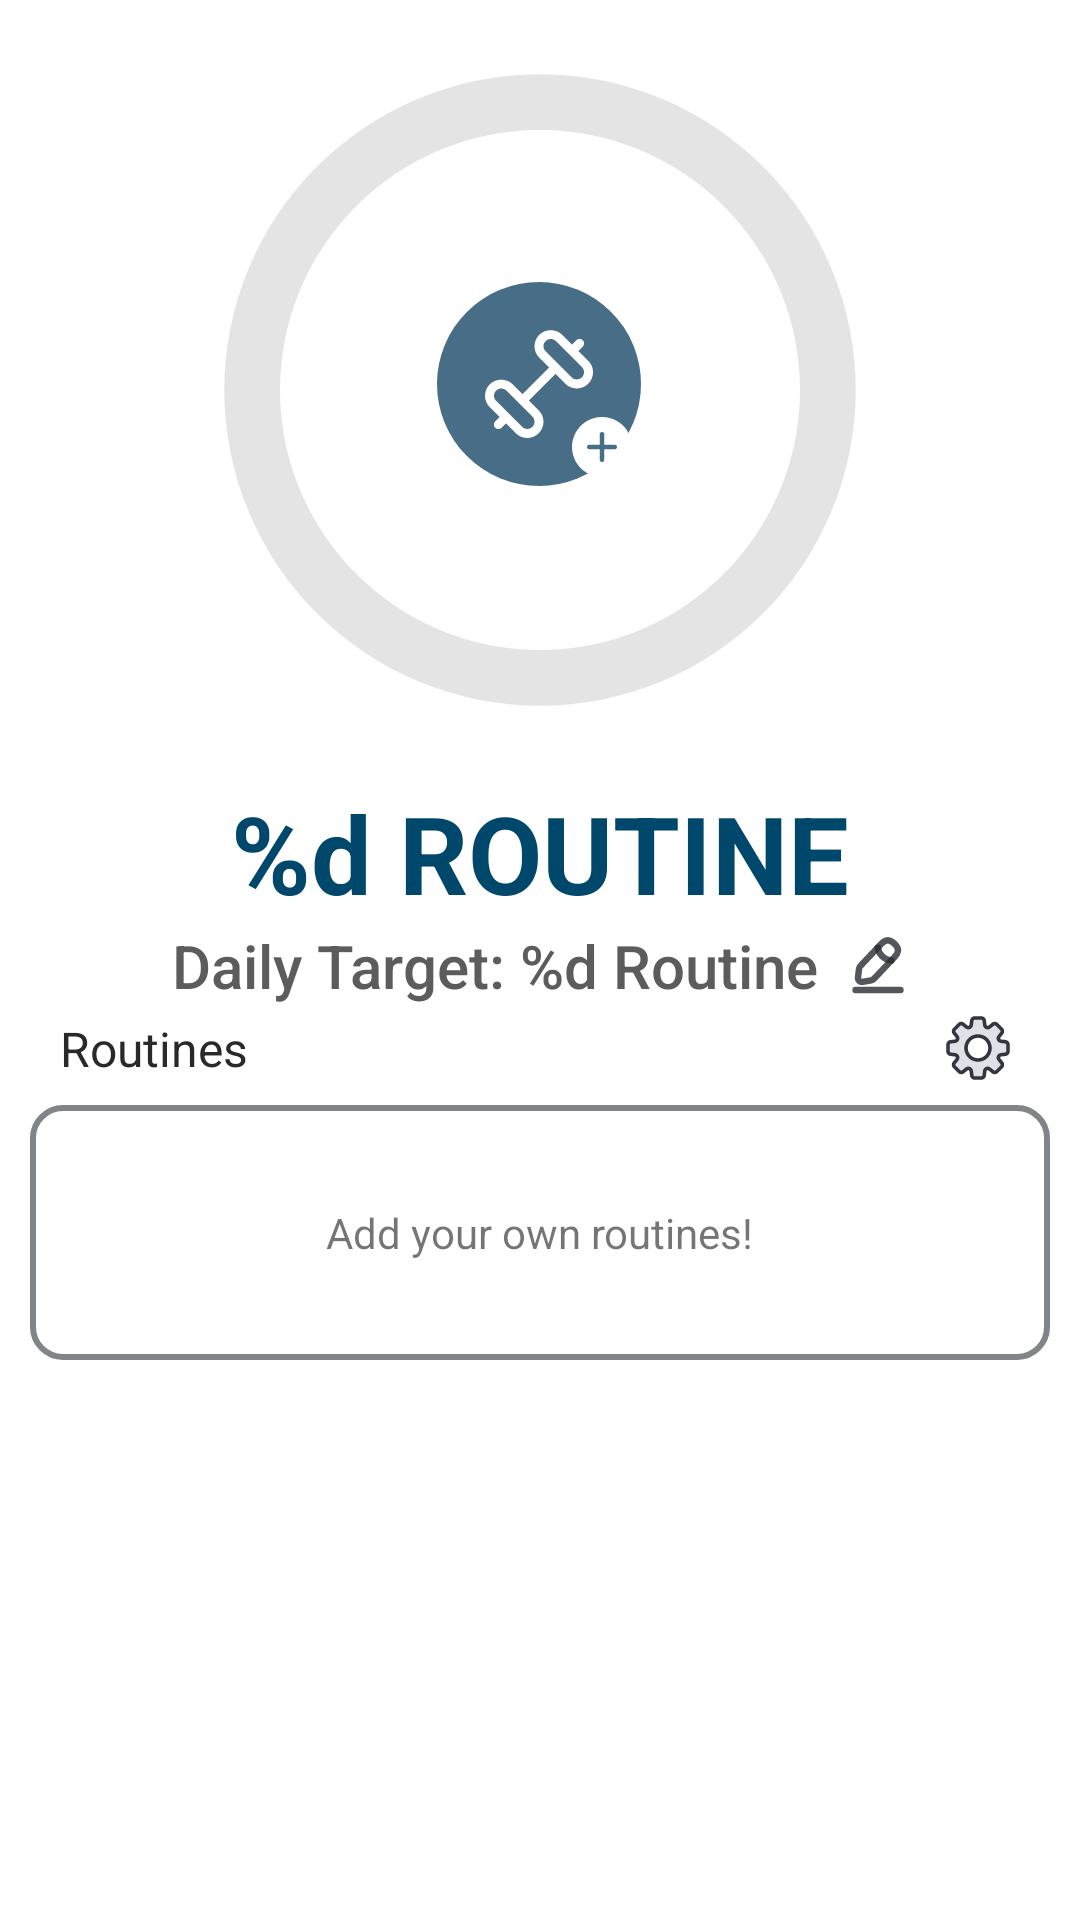

Screen size 1080 x 1920. Icon name, then its center in pixels as point (x, y):
edit pen: point (878, 965)
